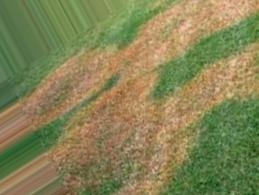patch: (53, 73, 181, 158), (75, 160, 150, 195), (84, 56, 156, 84), (192, 72, 250, 93), (174, 8, 225, 26), (137, 36, 174, 60)
